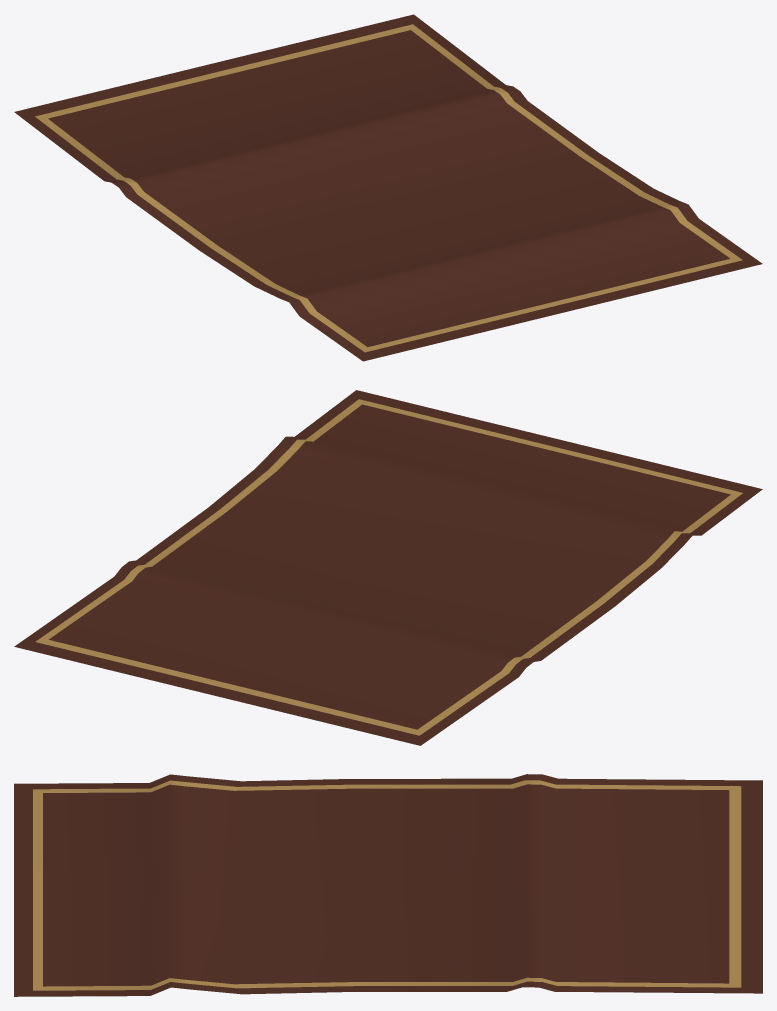
The model's file is Carpet_1.glb.
The picture shows the model from 3 angles, top to bottom: view 1: azimuth 30°, elevation 25°; view 2: azimuth 150°, elevation 25°; view 3: azimuth 270°, elevation 25°; orthographic projection. The views are drawn at different scales.
Visible parts, largest first — view 1: Carpet_1; view 2: Carpet_1; view 3: Carpet_1.
Part boxes in pixels (x1,y1,x2,y2): Carpet_1: (14,14,762,361); Carpet_1: (14,390,762,745); Carpet_1: (14,774,762,996).
Size of the model in its own units: 0.6394 by 0.011 by 0.928.
